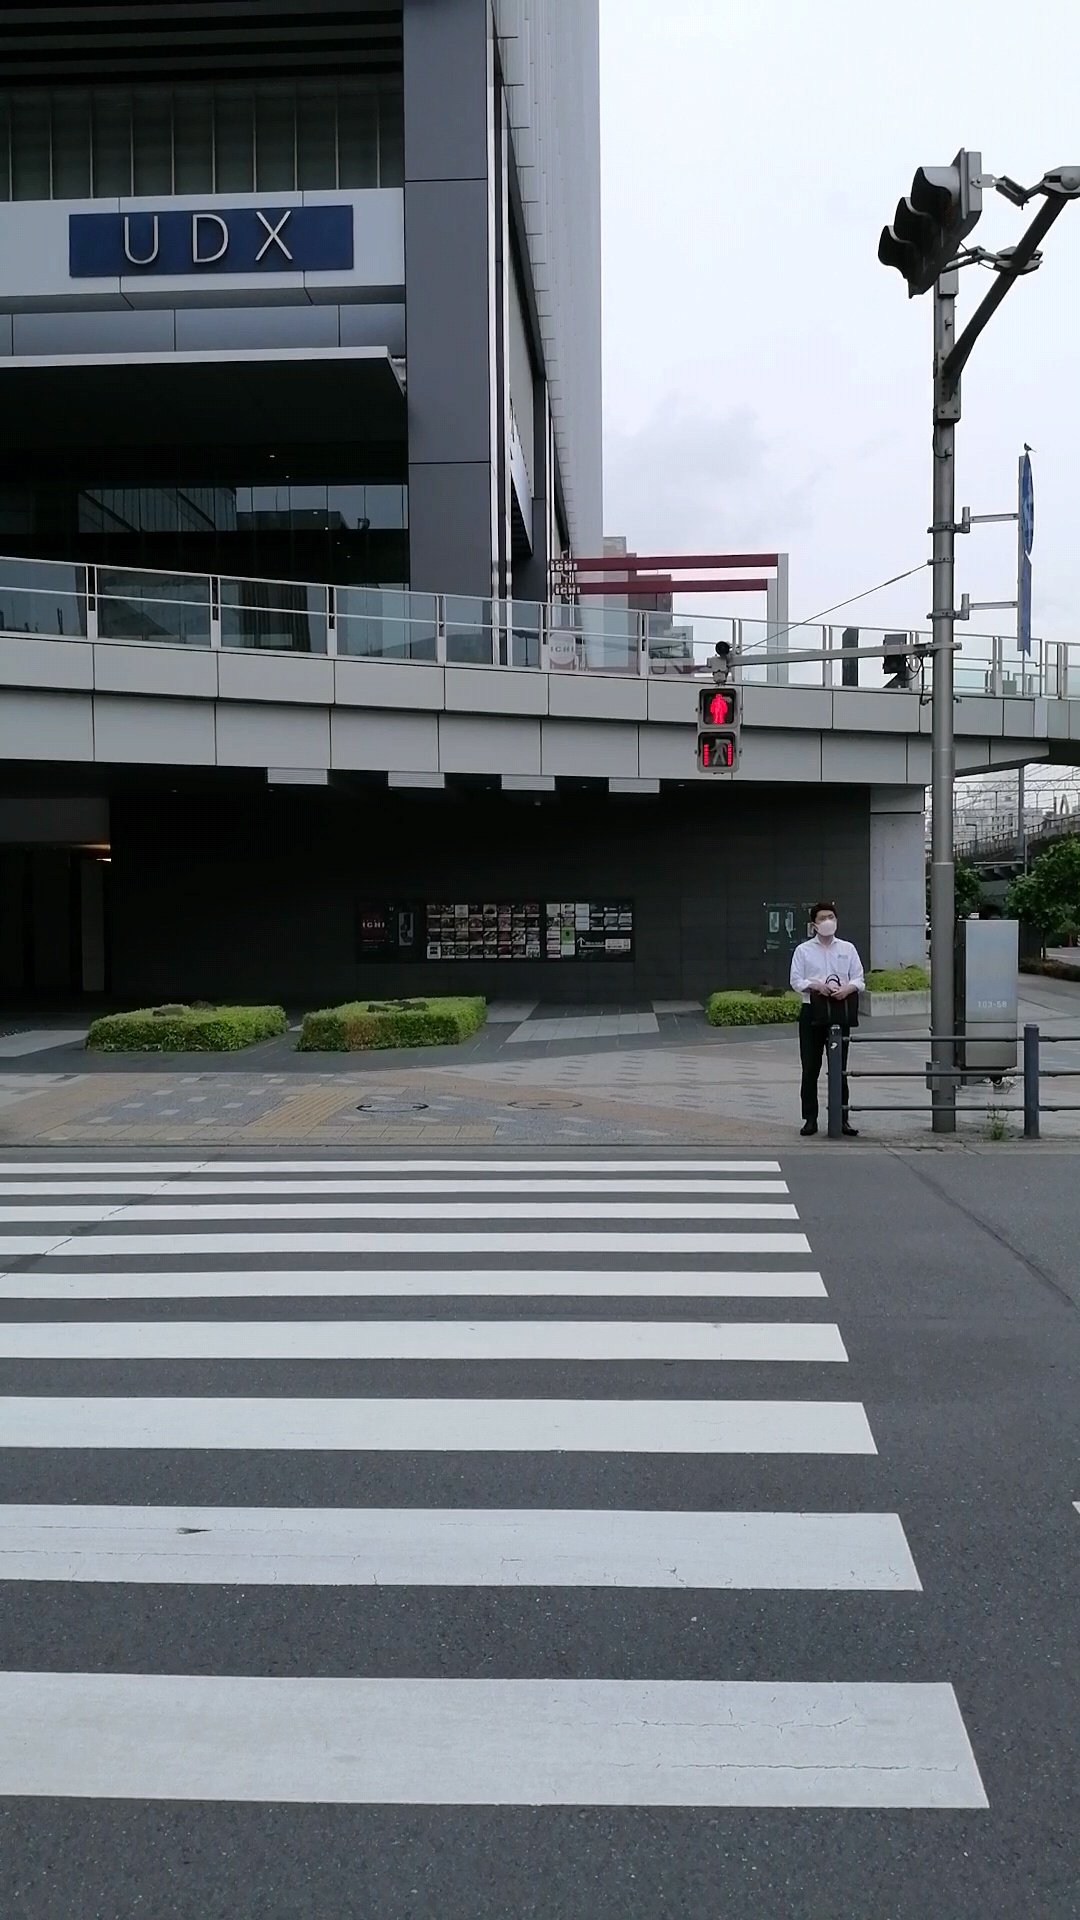red: (698, 684, 741, 771)
